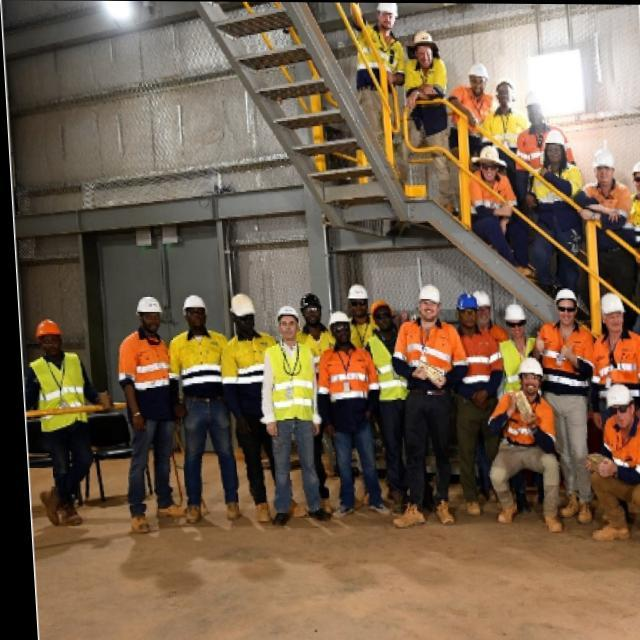hard_hat: (227, 291, 260, 338), (603, 385, 637, 429), (32, 318, 65, 357), (598, 291, 627, 334), (134, 296, 164, 337), (589, 149, 617, 188), (181, 294, 210, 331), (517, 356, 546, 393), (416, 284, 443, 322), (325, 312, 354, 347), (454, 292, 481, 329), (554, 287, 580, 324), (274, 306, 300, 341), (543, 129, 567, 166), (502, 304, 528, 338), (298, 296, 324, 329), (368, 299, 394, 332), (471, 290, 494, 326), (467, 62, 489, 97), (373, 3, 400, 30), (347, 282, 369, 315), (628, 160, 640, 195)
shoes: (39, 483, 87, 530), (493, 502, 565, 533), (128, 500, 190, 534), (392, 499, 457, 529), (250, 493, 308, 525), (462, 489, 520, 515), (184, 500, 246, 524), (270, 506, 334, 529), (589, 525, 640, 550), (560, 491, 595, 526)
vest: (392, 319, 469, 389), (221, 334, 282, 419), (533, 320, 598, 395), (484, 392, 559, 454), (400, 57, 451, 135), (266, 343, 316, 420), (352, 23, 407, 91), (450, 327, 505, 391), (594, 332, 640, 408), (511, 126, 575, 180), (369, 334, 414, 402), (291, 324, 339, 385), (601, 414, 640, 485), (192, 330, 231, 399), (468, 170, 518, 222), (500, 338, 542, 396), (478, 110, 528, 158), (347, 320, 383, 367)
